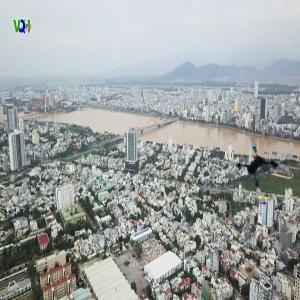drone: (232, 145, 292, 205)
